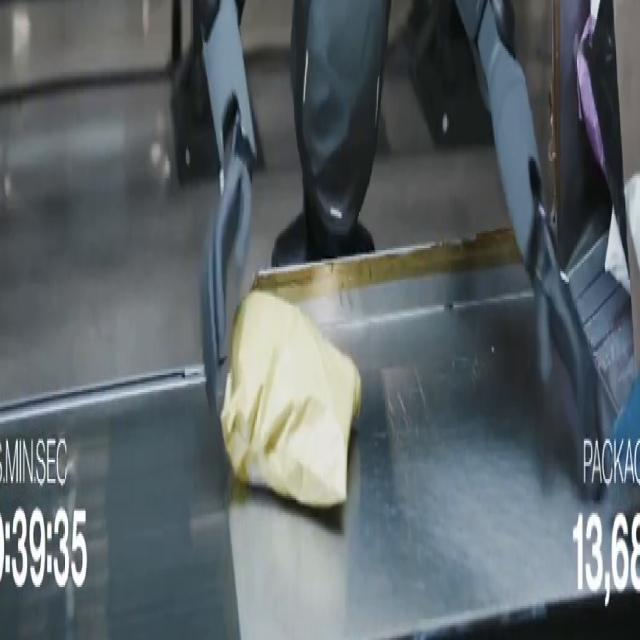package: (221, 291, 360, 508), (577, 0, 627, 260), (614, 0, 639, 182)
